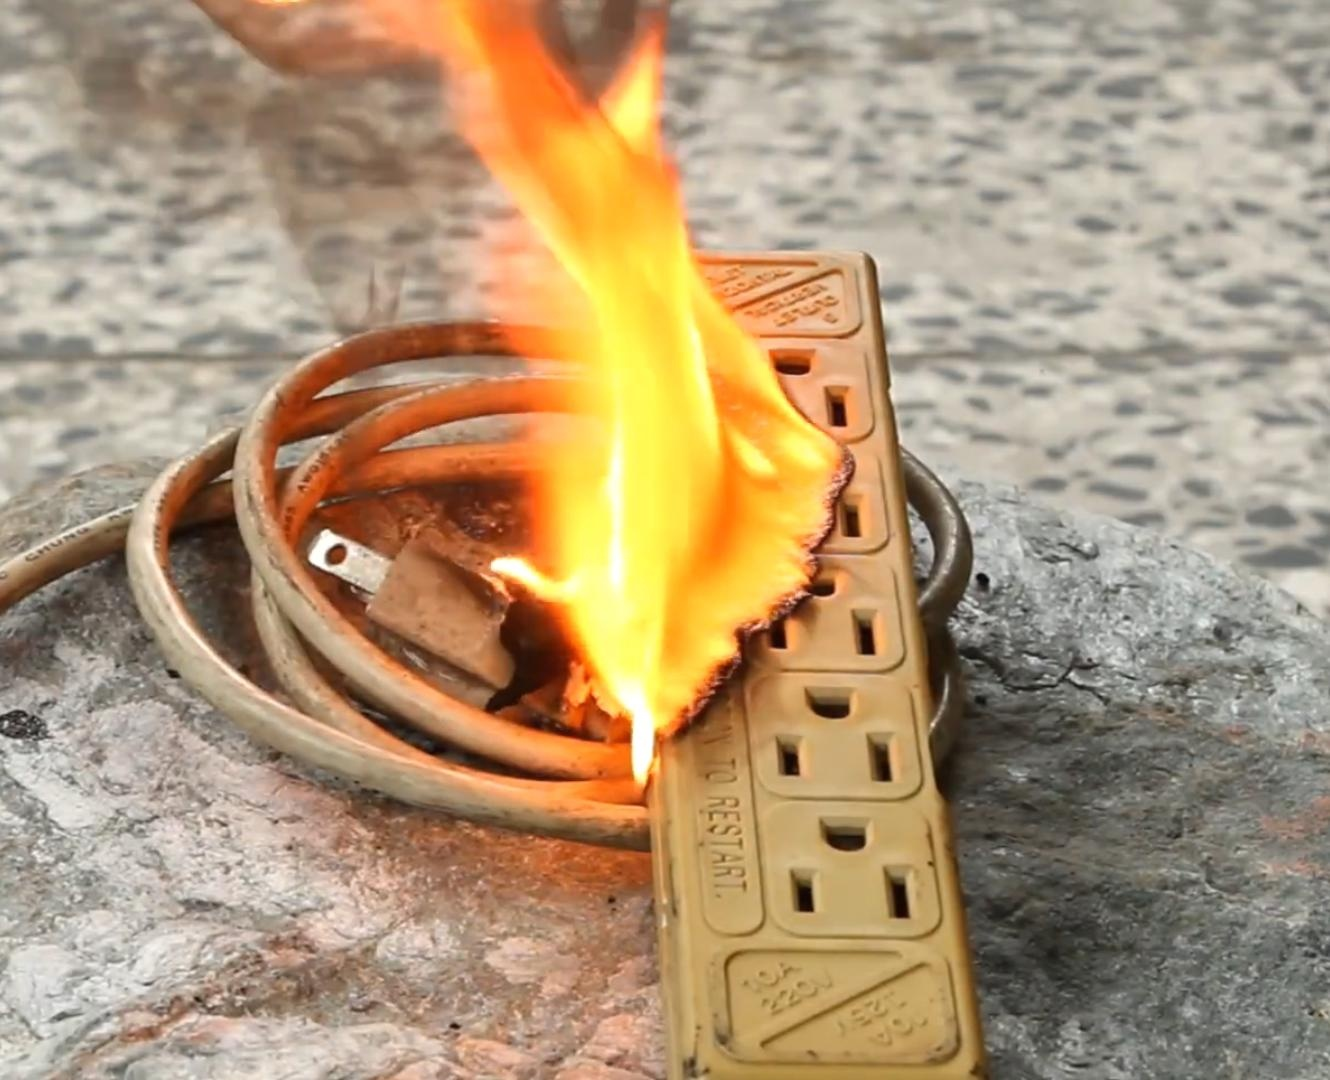fire: (391, 0, 868, 800)
